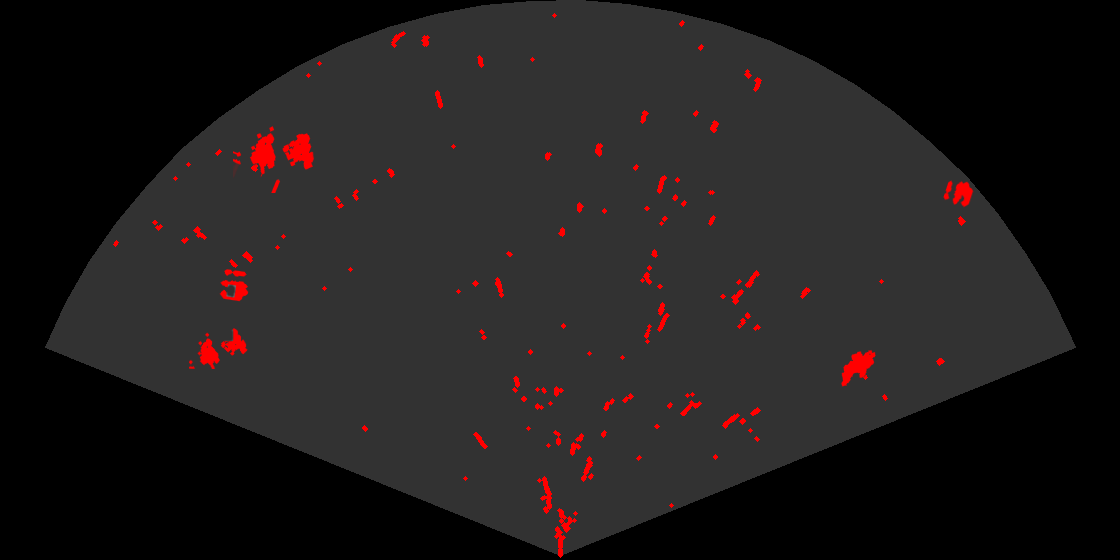AUV: (840, 349, 877, 388)
ball: (218, 268, 250, 303), (942, 179, 975, 209)
cage: (233, 125, 316, 193), (189, 327, 249, 369)
